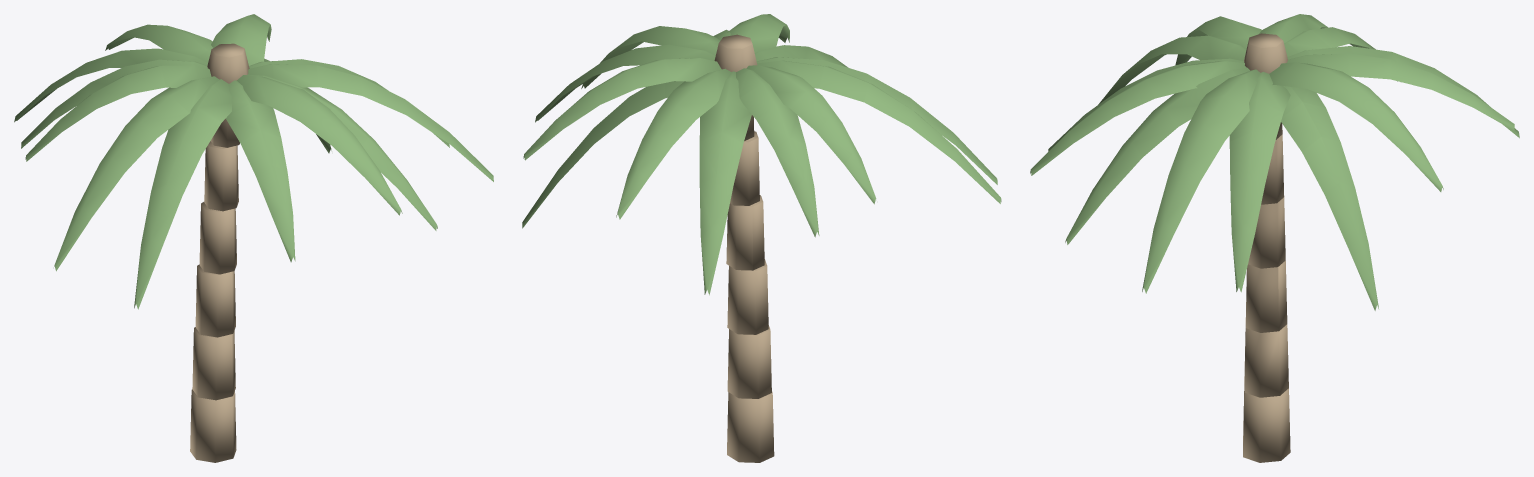
File: palm_c.glb
The picture shows the model from 3 angles, left to right: view 1: azimuth 30°, elevation 25°; view 2: azimuth 150°, elevation 25°; view 3: azimuth 270°, elevation 25°; orthographic projection. The views are drawn at different scales.
Parts seen in each view (by area): view 1: palm_c; view 2: palm_c; view 3: palm_c.
Part boxes in pixels (left/top/right/bottom): palm_c: left=14, top=14, right=493, bottom=462; palm_c: left=522, top=14, right=1001, bottom=462; palm_c: left=1030, top=14, right=1519, bottom=462.
Bounding box in the file's own units: 8.65 × 7.75 × 8.2.
